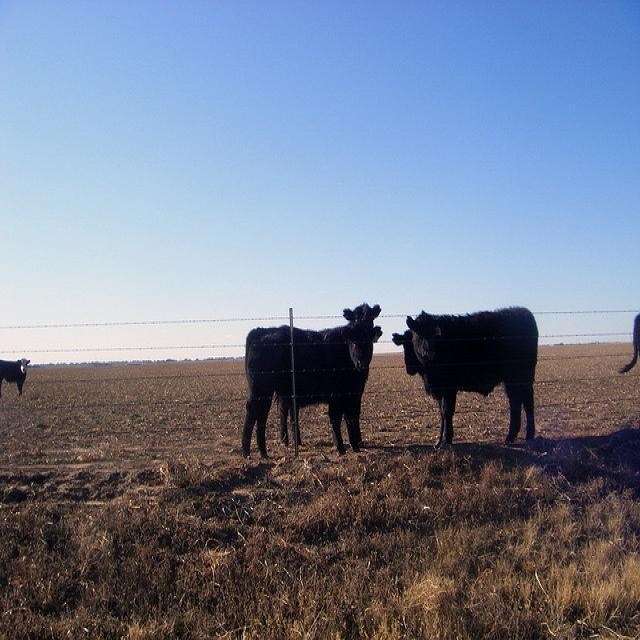cow: (239, 300, 380, 460), (405, 304, 539, 444), (389, 328, 435, 399), (0, 355, 29, 396)
